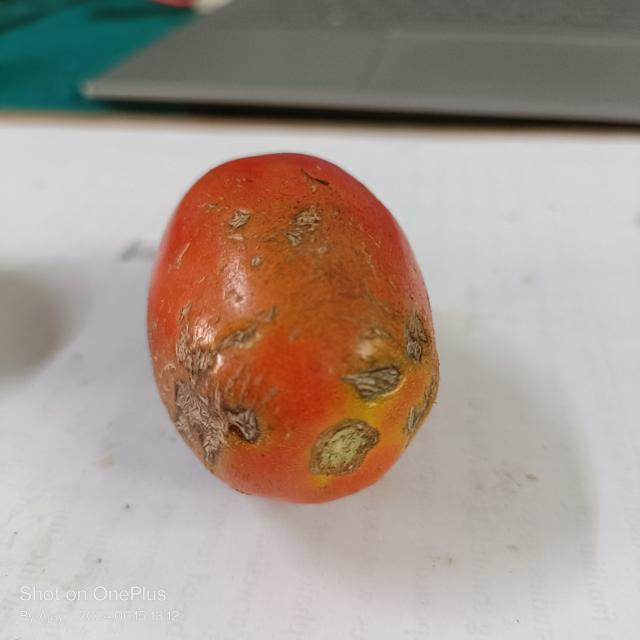Bacterial_Spot: (149, 312, 272, 464), (346, 357, 408, 406), (390, 310, 436, 357), (213, 200, 263, 238), (285, 207, 324, 248)
